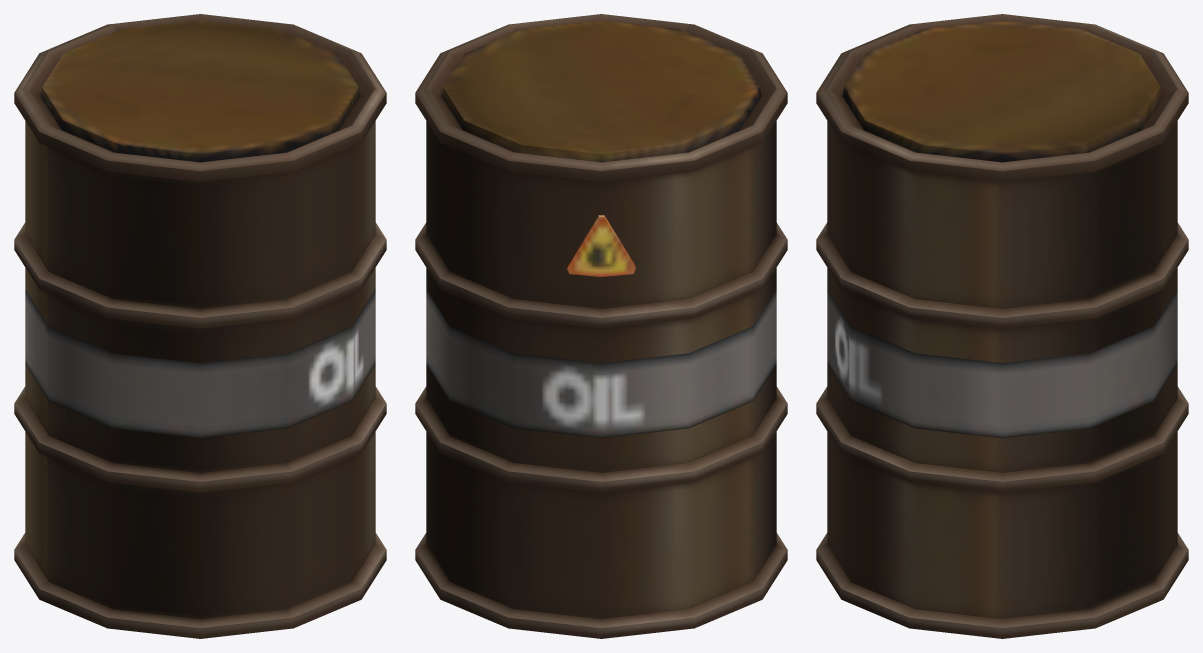
The model's file is OilDrum.fbx.
3 renders of one model, left to right at view 1: azimuth 30°, elevation 25°; view 2: azimuth 150°, elevation 25°; view 3: azimuth 270°, elevation 25°, orthographic.
Visible parts, largest first — view 1: raid_01_obj_17_raid_01_obj_17_0; view 2: raid_01_obj_17_raid_01_obj_17_0; view 3: raid_01_obj_17_raid_01_obj_17_0.
Part boxes in pixels (x1,y1,x2,y2): raid_01_obj_17_raid_01_obj_17_0: [14, 14, 386, 638]; raid_01_obj_17_raid_01_obj_17_0: [415, 14, 787, 638]; raid_01_obj_17_raid_01_obj_17_0: [816, 14, 1188, 638].
Size of the model in its own units: 0.6622 by 0.9373 by 0.6622.
